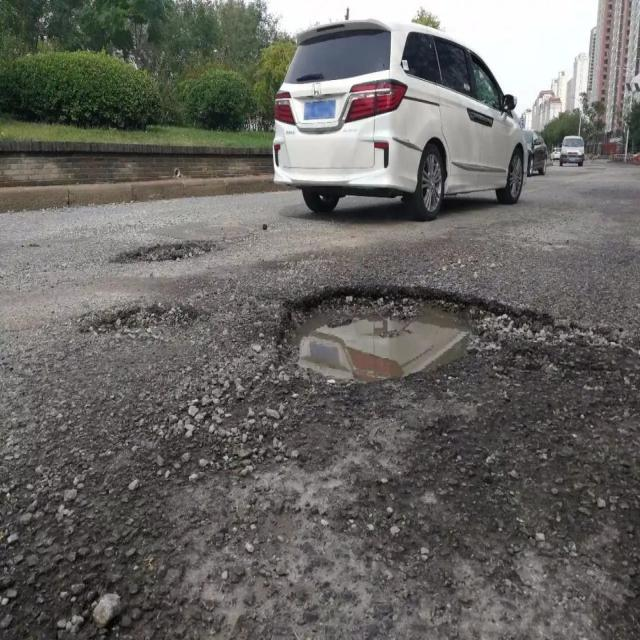Pothole: (276, 285, 490, 390), (88, 303, 192, 339), (127, 240, 217, 263)
